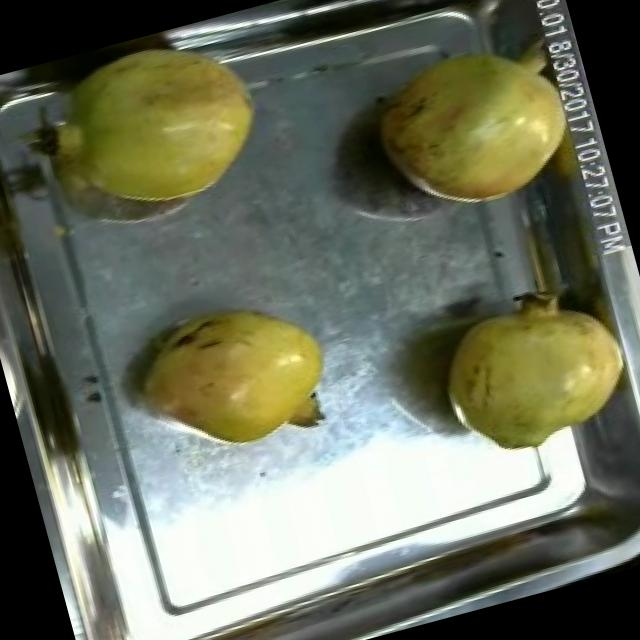fruit: (37, 13, 291, 239), (351, 17, 598, 234), (412, 267, 640, 482), (117, 276, 354, 478)
